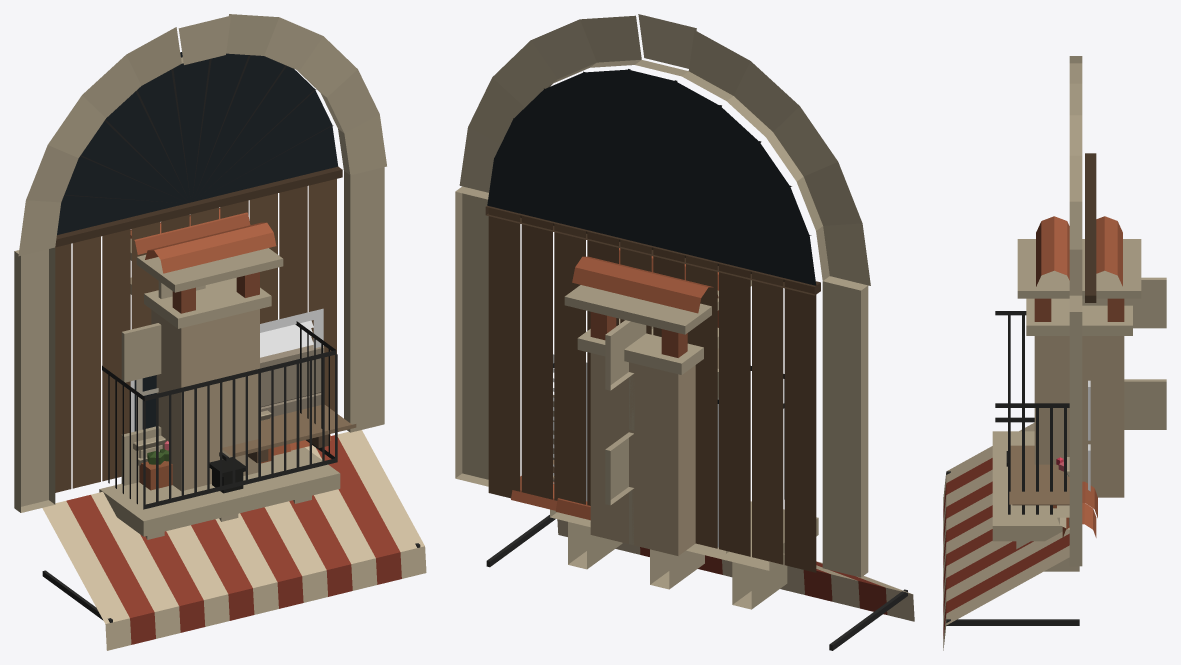
The model's file is arch_kit.glb.
The picture shows the model from 3 angles, left to right: view 1: azimuth 30°, elevation 25°; view 2: azimuth 150°, elevation 25°; view 3: azimuth 270°, elevation 25°; orthographic projection. The views are drawn at different scales.
Visible parts, largest first — view 1: shop, awning, chimney, railing, balcony, quoin, plinth, eave, shutter, planter, lantern, win_glass; view 2: shop, chimney, balcony, awning, quoin, ridge; view 3: chimney, awning, shop, balcony, quoin, eave, railing, ridge.
Boxes of the visible parts, <box> form: shop: <box>14,14,386,512</box>; awning: <box>42,430,426,650</box>; chimney: <box>130,208,283,491</box>; railing: <box>102,321,337,509</box>; balcony: <box>99,447,340,539</box>; quoin: <box>121,281,205,485</box>; plinth: <box>260,341,324,416</box>; eave: <box>222,405,356,463</box>; shutter: <box>260,308,323,357</box>; planter: <box>139,440,271,490</box>; lantern: <box>209,452,245,493</box>; win_glass: <box>134,375,156,431</box>; shop: <box>455,14,870,577</box>; chimney: <box>564,248,751,555</box>; balcony: <box>550,501,818,609</box>; awning: <box>486,515,914,650</box>; quoin: <box>605,320,718,544</box>; ridge: <box>511,476,590,520</box>; chimney: <box>1017,216,1141,497</box>; awning: <box>943,422,1079,650</box>; shop: <box>1069,56,1096,566</box>; balcony: <box>992,431,1079,571</box>; quoin: <box>1082,277,1166,429</box>; eave: <box>1009,445,1069,529</box>; railing: <box>995,311,1069,514</box>; ridge: <box>1062,481,1097,538</box>.
Size of the model in its own units: 3 by 4.23 by 1.59.
